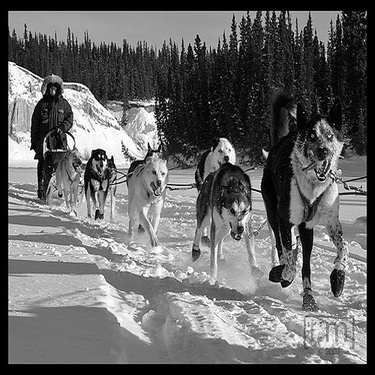dog: (235, 89, 358, 319), (183, 159, 272, 296), (116, 155, 183, 261), (183, 134, 257, 209), (125, 133, 179, 194), (50, 144, 89, 216), (99, 146, 133, 223), (84, 142, 114, 229)
